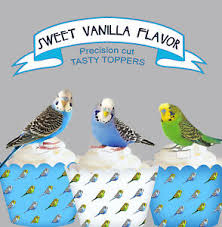budgie: (1, 88, 76, 169), (87, 96, 155, 152), (159, 103, 221, 153)
